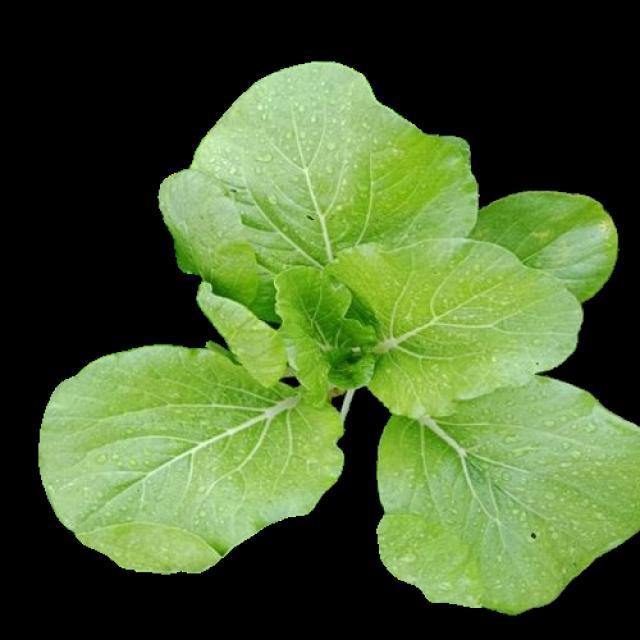mature: (39, 65, 640, 611)
unhealthy: (160, 67, 476, 307), (379, 375, 637, 612)
